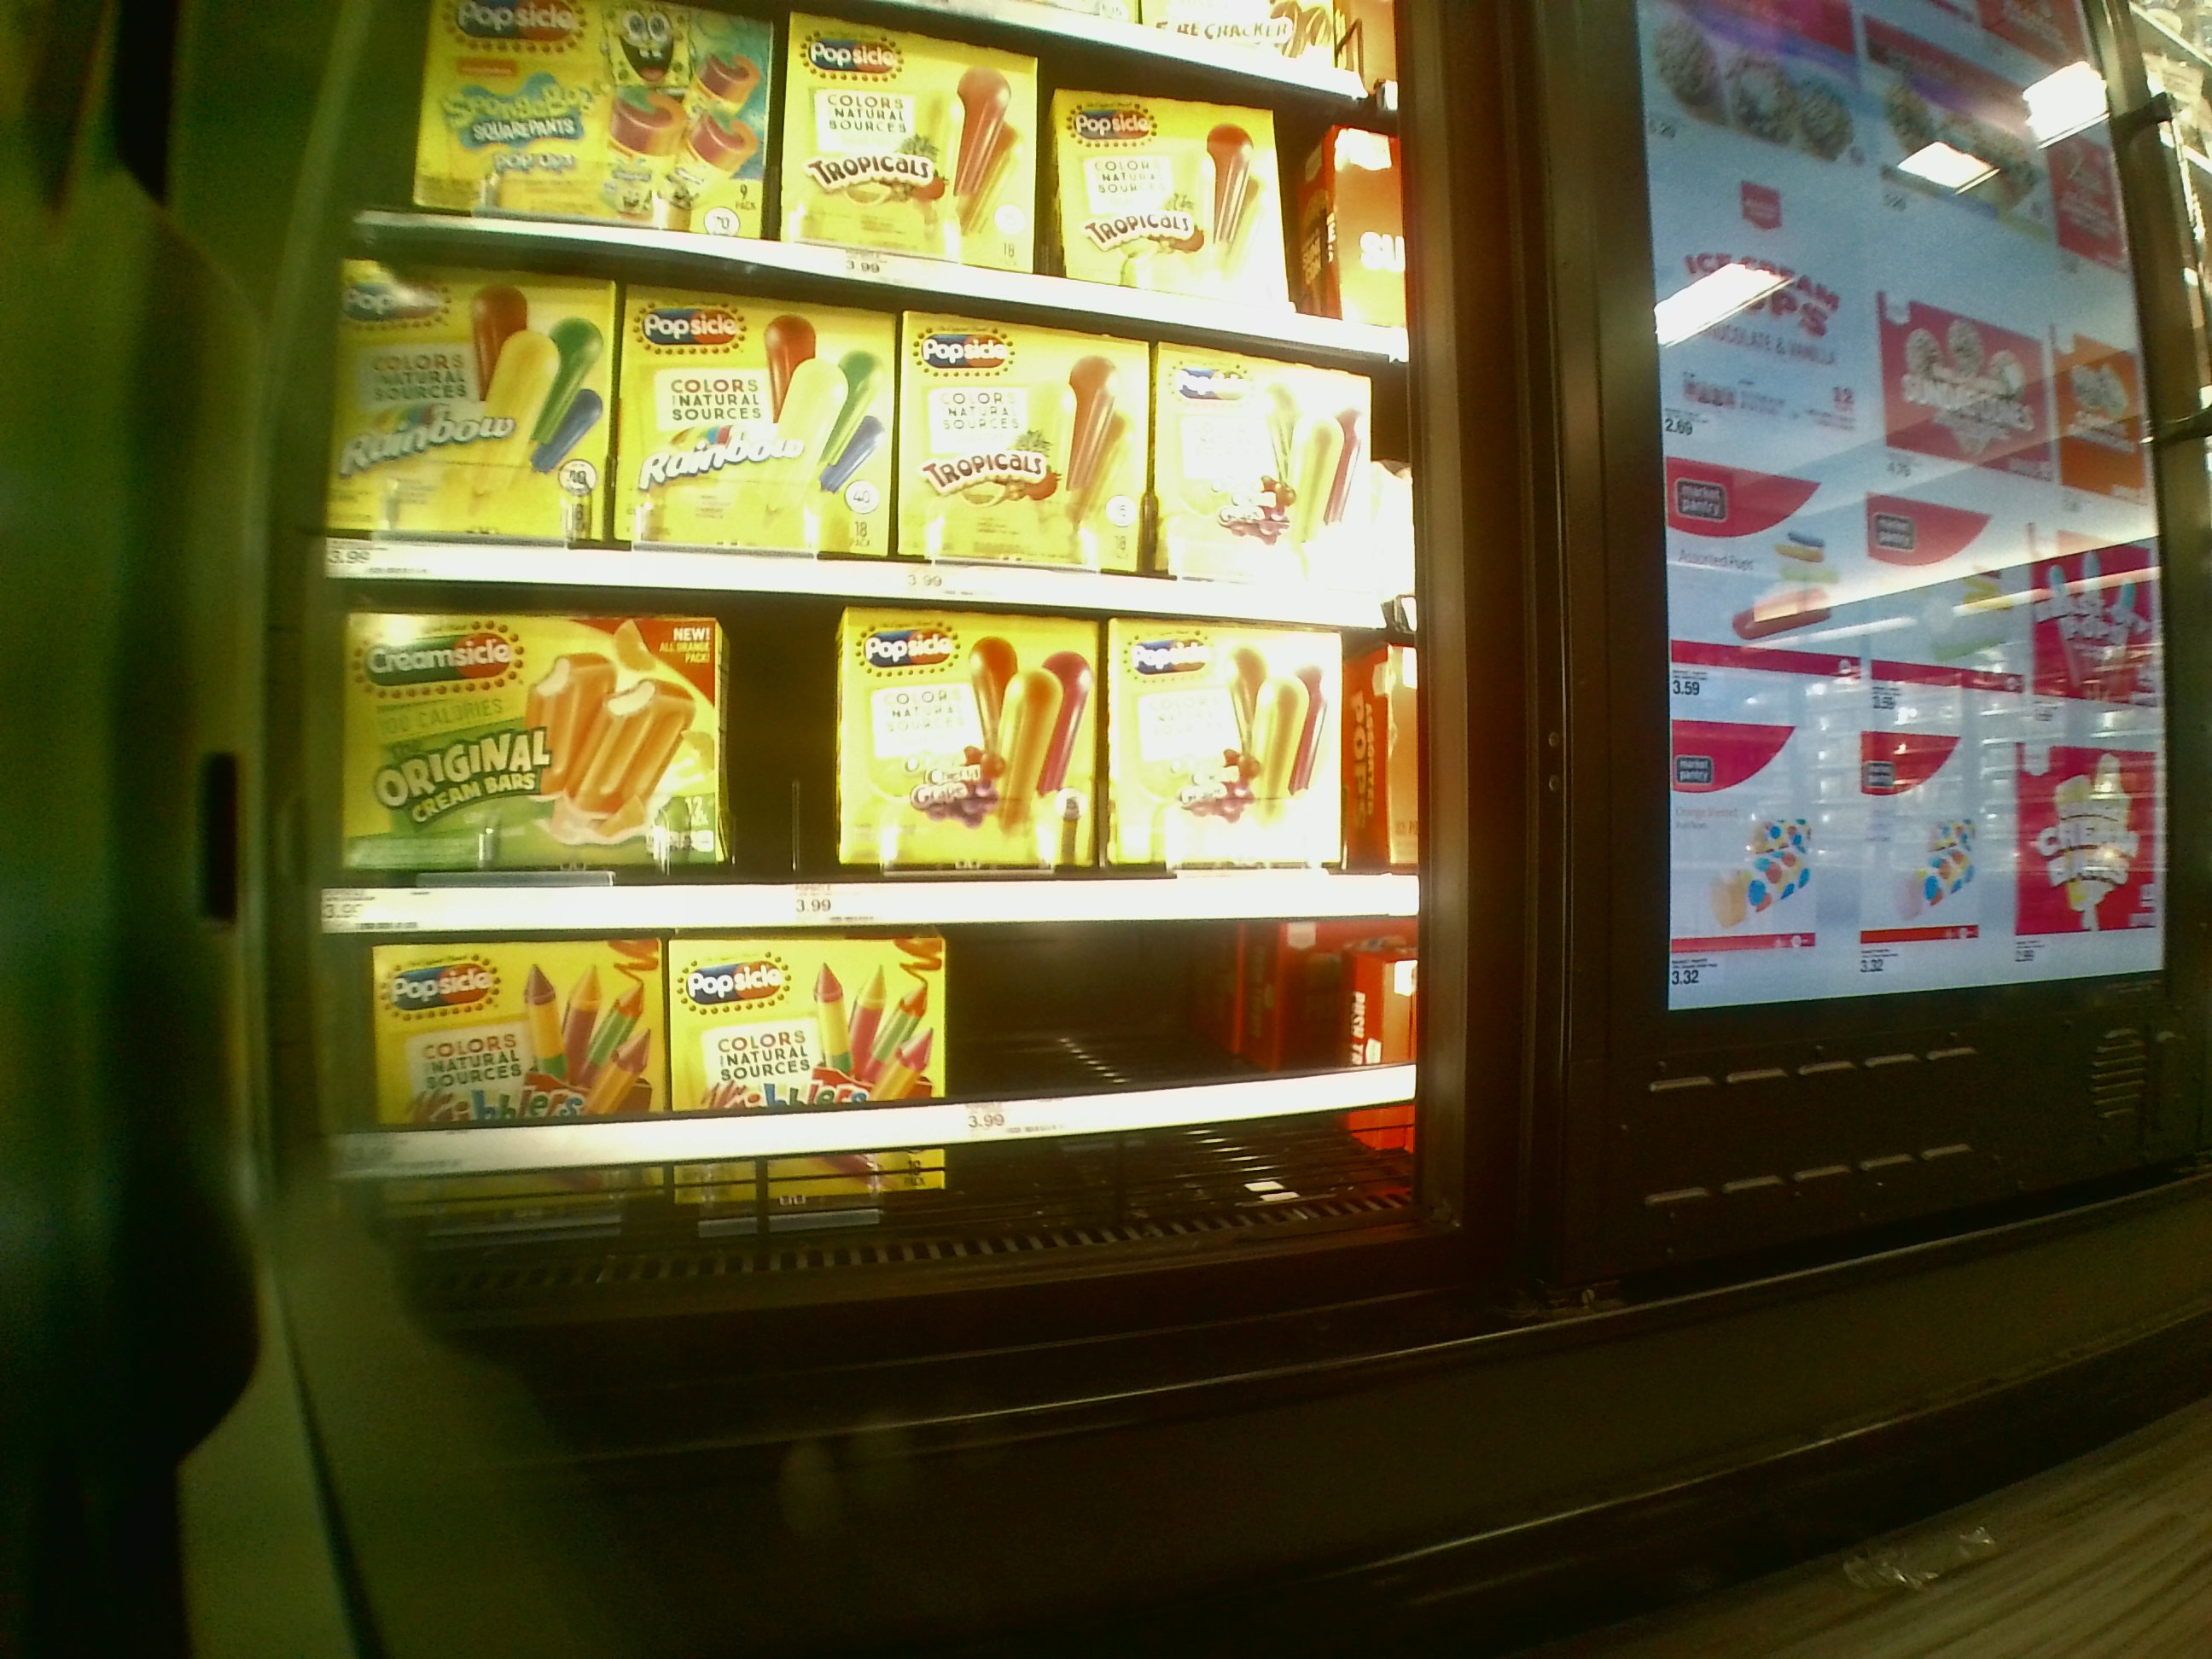shelf: (326, 601, 1409, 939), (326, 281, 1409, 599), (357, 939, 1407, 1246)
